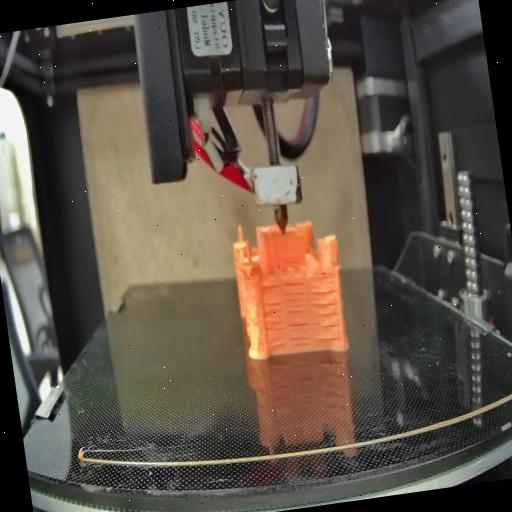cracks: (307, 284, 344, 343), (260, 300, 287, 348), (280, 276, 310, 317), (288, 318, 313, 346), (260, 279, 280, 289)
